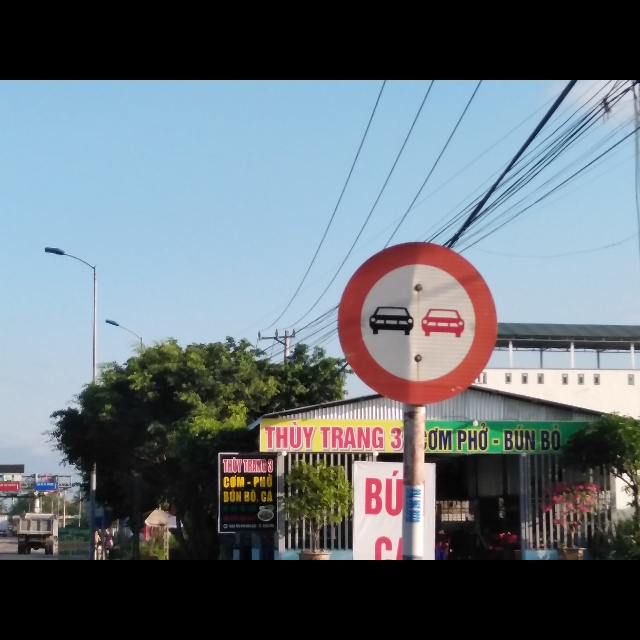Cấm vượt: (336, 243, 499, 404)
